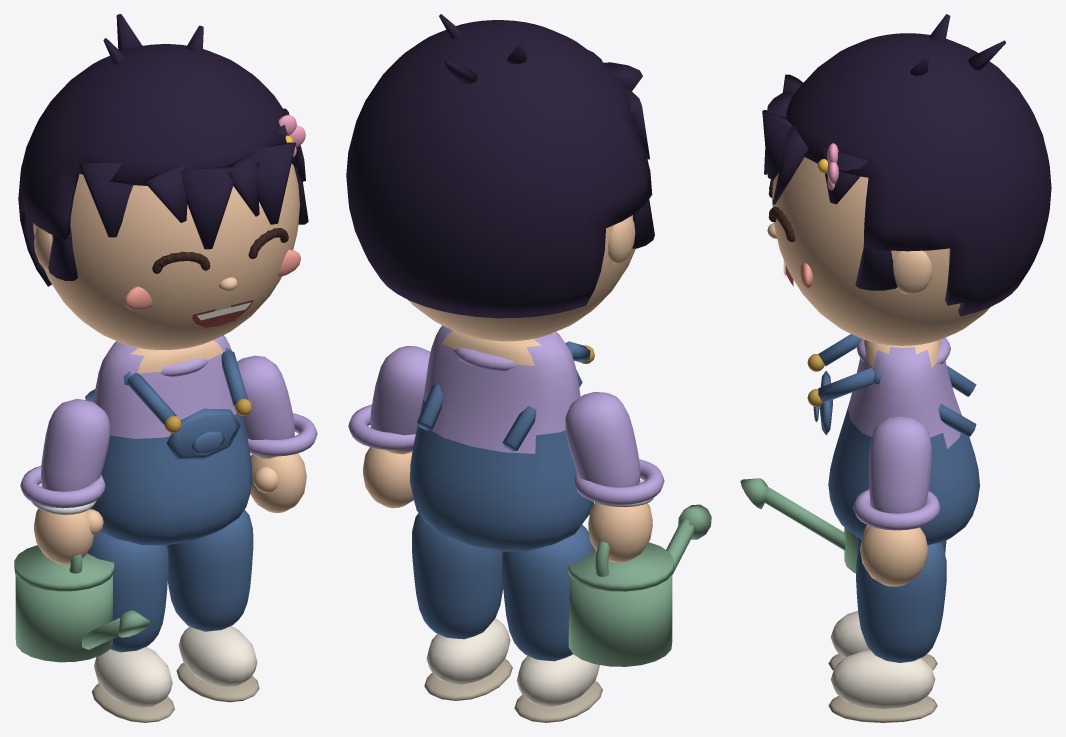
File: khoi-xuan.glb
3 renders of one model, left to right at view 1: azimuth 30°, elevation 25°; view 2: azimuth 150°, elevation 25°; view 3: azimuth 270°, elevation 25°, orthographic. The views are drawn at different scales.
Visible parts, largest first — view 1: head, body, legR, held, legL, armL, armR; view 2: head, body, legR, held, legL, armL, armR; view 3: head, body, legR, armR, held, legL.
Boxes of the visible parts, x1,y1,x2,y2 form: head: (18,14,308,349); body: (85,335,252,545); legR: (167,509,259,702); held: (14,545,149,662); legL: (87,532,174,722); armL: (20,398,110,564); armR: (237,355,317,512); head: (346,14,654,341); body: (409,325,594,551); legR: (412,513,512,700); held: (568,504,711,666); legL: (502,524,602,722); armL: (565,392,664,563); armR: (348,346,430,508); head: (762,14,1051,345); body: (807,334,979,544); legR: (828,542,946,722); armR: (853,416,940,586); held: (740,478,857,573); legL: (828,536,946,670).
Bounding box in the file's own units: 0.3976 × 0.8379 × 0.3587.
